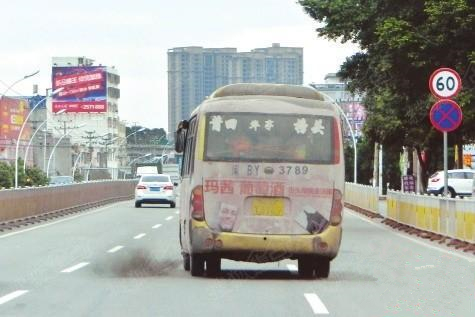smoke: (92, 241, 181, 281)
